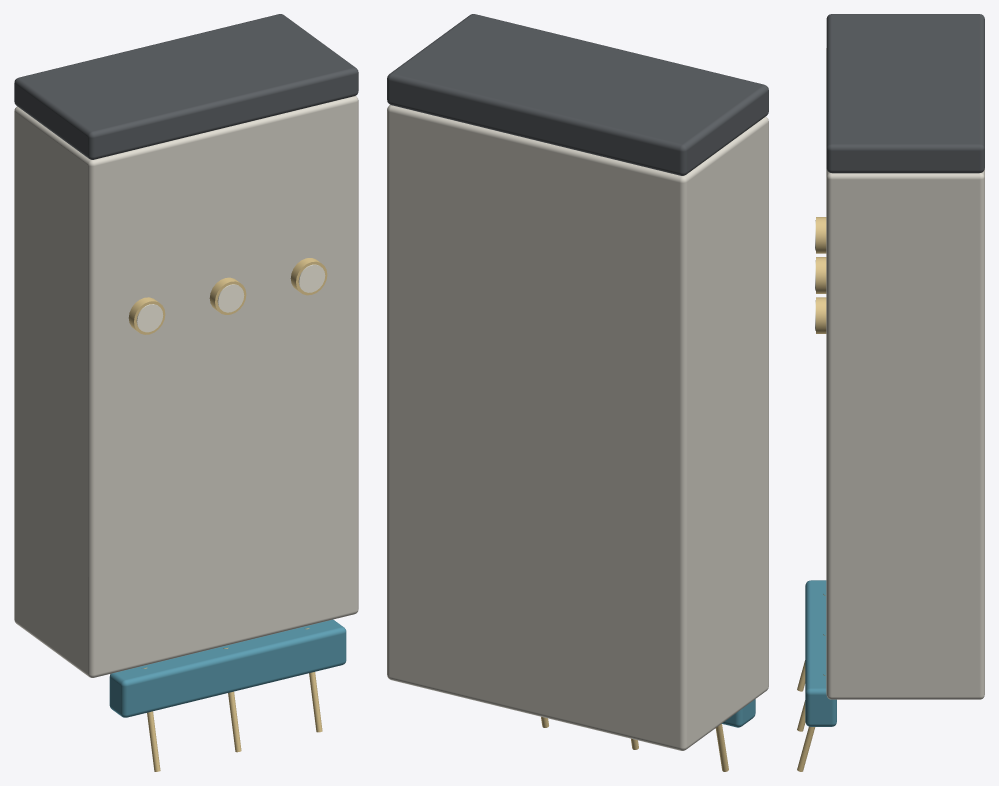
File: geotechnical-soil-testing-laboratory-pore-pressure-dis-bde40254__39043.glb
3 renders of one model, left to right at view 1: azimuth 30°, elevation 25°; view 2: azimuth 150°, elevation 25°; view 3: azimuth 270°, elevation 25°, orthographic. The views are drawn at different scales.
Visible parts, largest first — view 1: pore-pressure-distribution-panel; view 2: pore-pressure-distribution-panel; view 3: pore-pressure-distribution-panel.
Boxes of the visible parts, x1,y1,x2,y2 form: pore-pressure-distribution-panel: [14, 14, 358, 771]; pore-pressure-distribution-panel: [387, 14, 768, 771]; pore-pressure-distribution-panel: [797, 14, 984, 771].
Bounding box in the file's own units: 0.6 × 1.36 × 0.3558.
